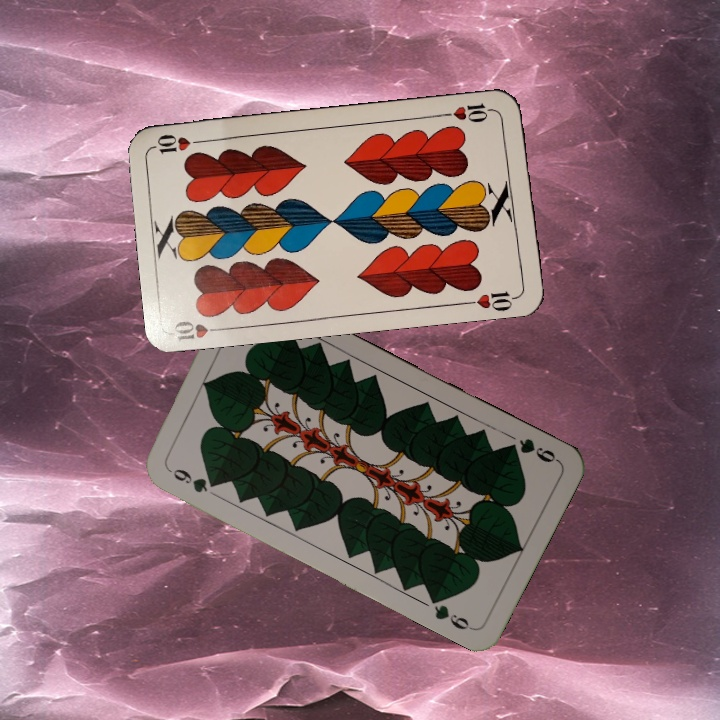G9: (502, 434, 562, 465), (164, 464, 220, 495)
H10: (170, 316, 229, 343), (439, 99, 498, 125)
